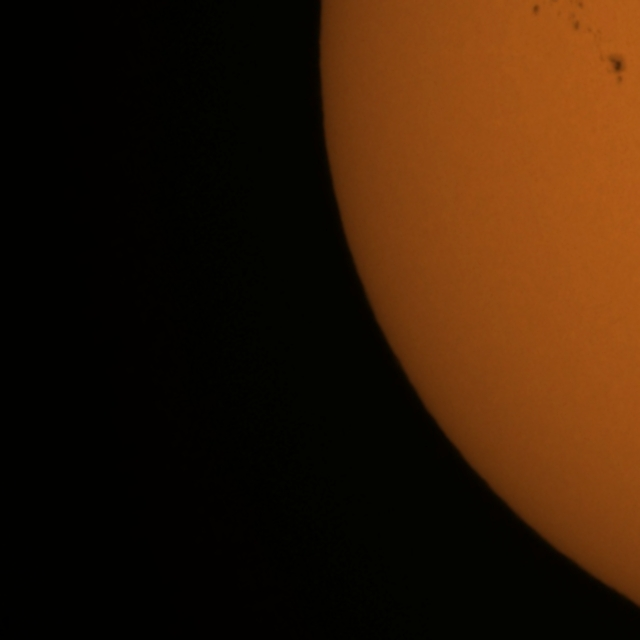sunspot: (564, 3, 599, 36), (552, 0, 587, 33), (598, 51, 628, 86), (530, 2, 542, 18)
